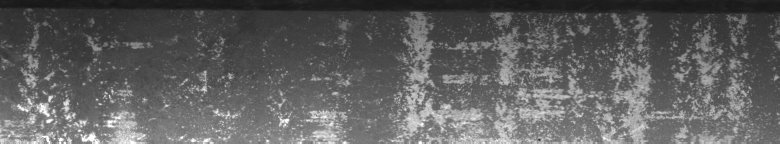kb: (4, 8, 776, 136)
